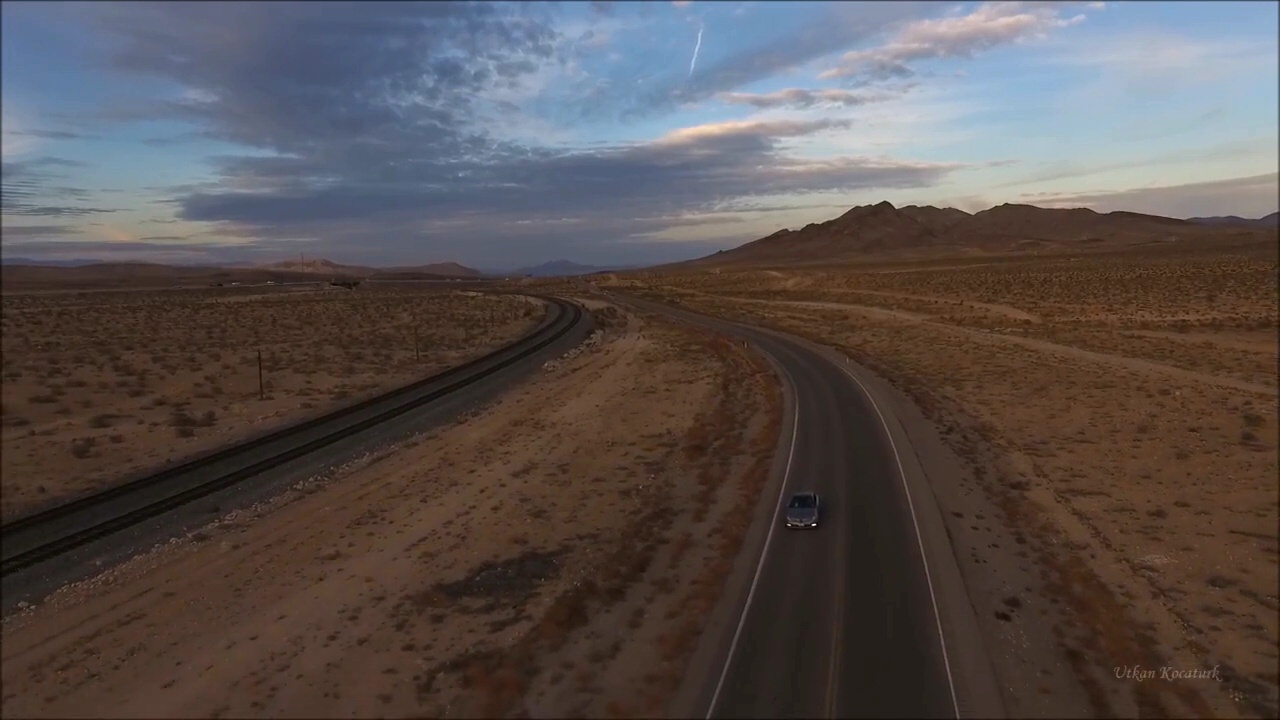araba: (778, 489, 823, 532)
